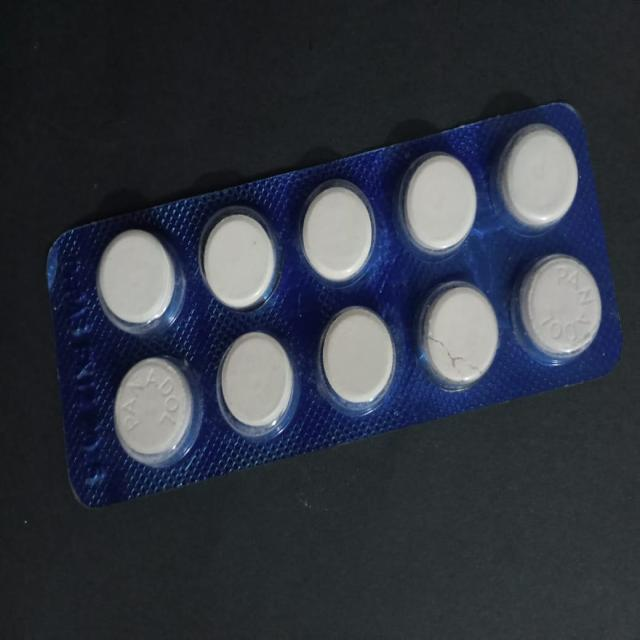defect: (420, 282, 502, 391)
